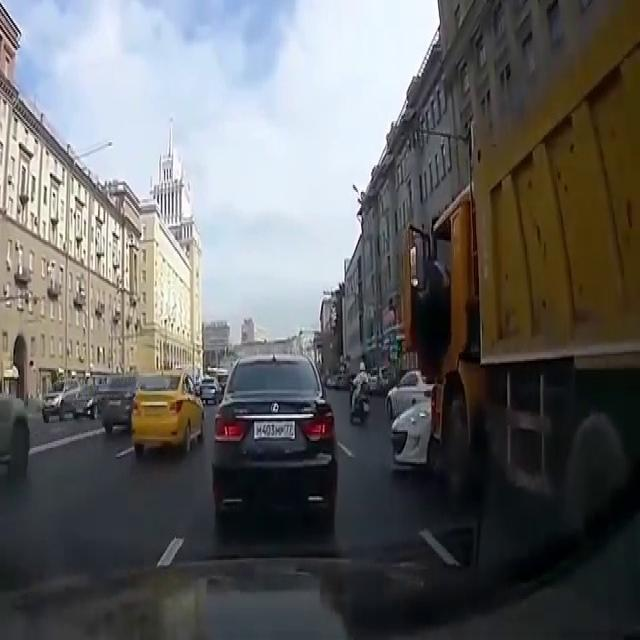severe: (383, 0, 640, 574)
